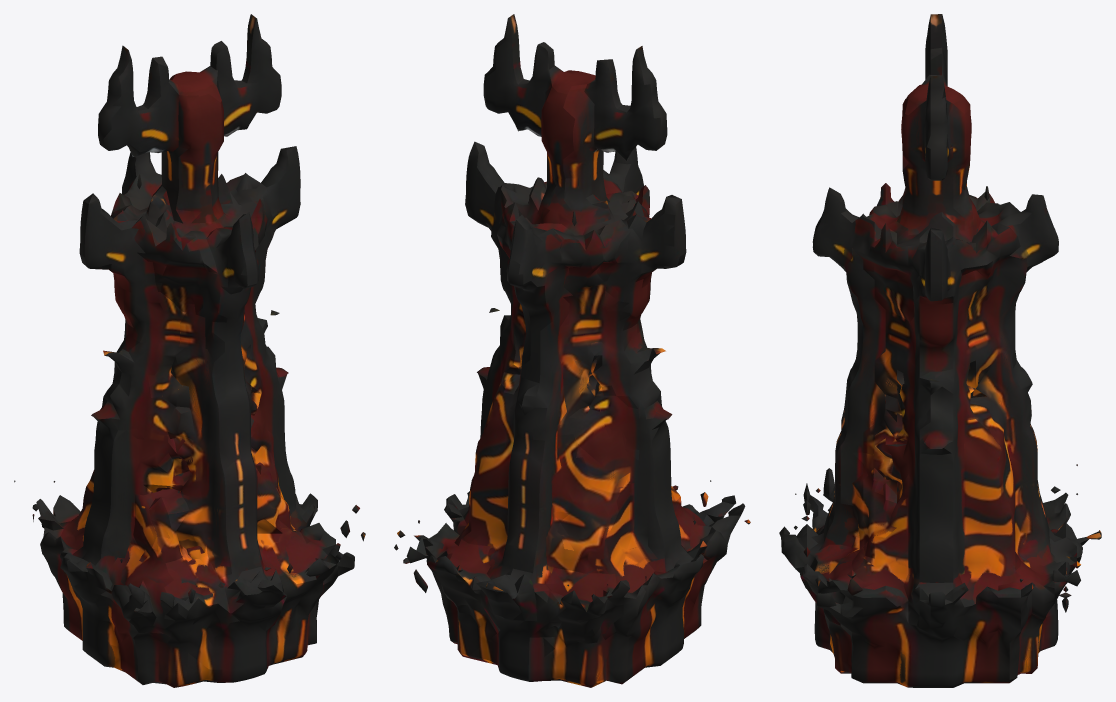
Rendered from DemonTower.glb.
The picture shows the model from 3 angles, left to right: view 1: azimuth 30°, elevation 25°; view 2: azimuth 150°, elevation 25°; view 3: azimuth 270°, elevation 25°; orthographic projection.
Visible parts, largest first — view 1: tmp79_8u6kj.ply; view 2: tmp79_8u6kj.ply; view 3: tmp79_8u6kj.ply.
Boxes of the visible parts, x1=… form: tmp79_8u6kj.ply: x1=14, y1=14, x2=365, y2=687; tmp79_8u6kj.ply: x1=394, y1=14, x2=750, y2=687; tmp79_8u6kj.ply: x1=779, y1=14, x2=1101, y2=687.
Size of the model in its own units: 0.8004 by 1.82 by 0.8907.
1 material, 1 textured.
